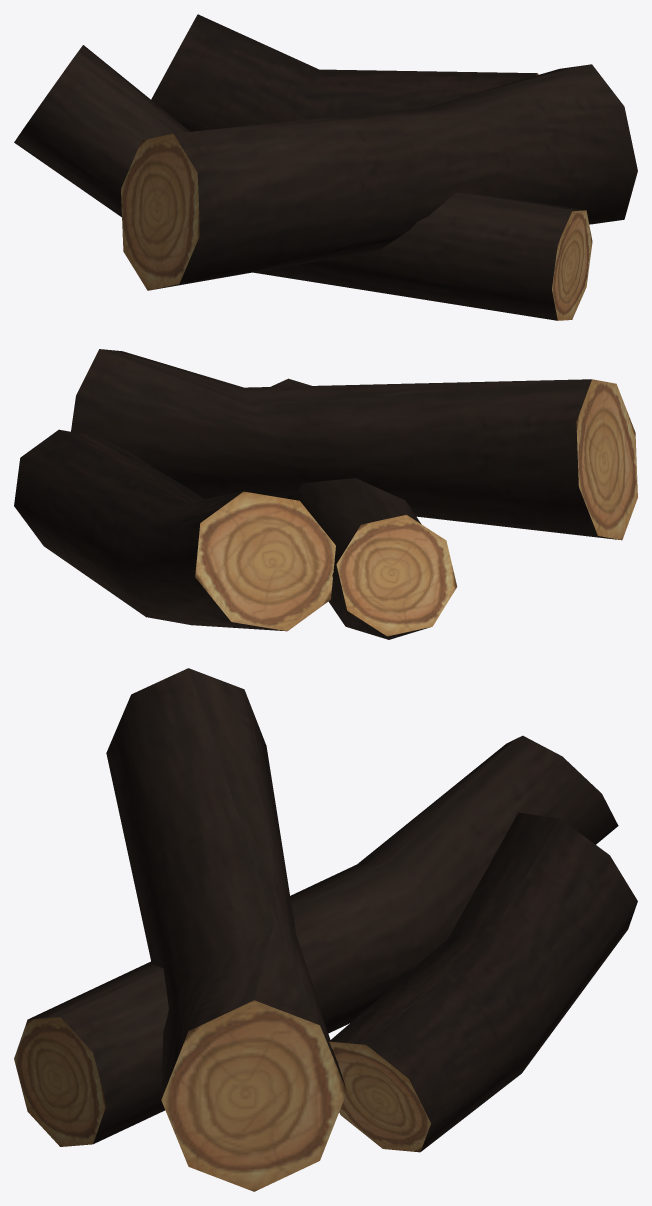
The model's file is Wood_Stack_A.fbx.
3 renders of one model, top to bottom at view 1: azimuth 30°, elevation 25°; view 2: azimuth 150°, elevation 25°; view 3: azimuth 270°, elevation 25°, orthographic. The views are drawn at different scales.
Visible parts, largest first — view 1: Wood_Stack_A; view 2: Wood_Stack_A; view 3: Wood_Stack_A.
Boxes of the visible parts, bbox=[...] form: Wood_Stack_A: bbox=[14, 14, 637, 320]; Wood_Stack_A: bbox=[14, 349, 637, 639]; Wood_Stack_A: bbox=[14, 668, 637, 1191].
Size of the model in its own units: 43.34 by 19.75 by 40.3.
1 material, 1 textured.
